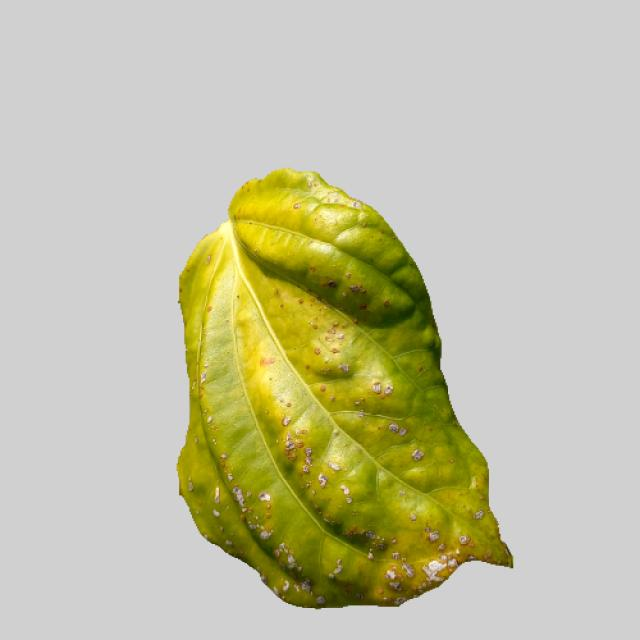yellow-mottle-virus: (168, 178, 510, 609)
